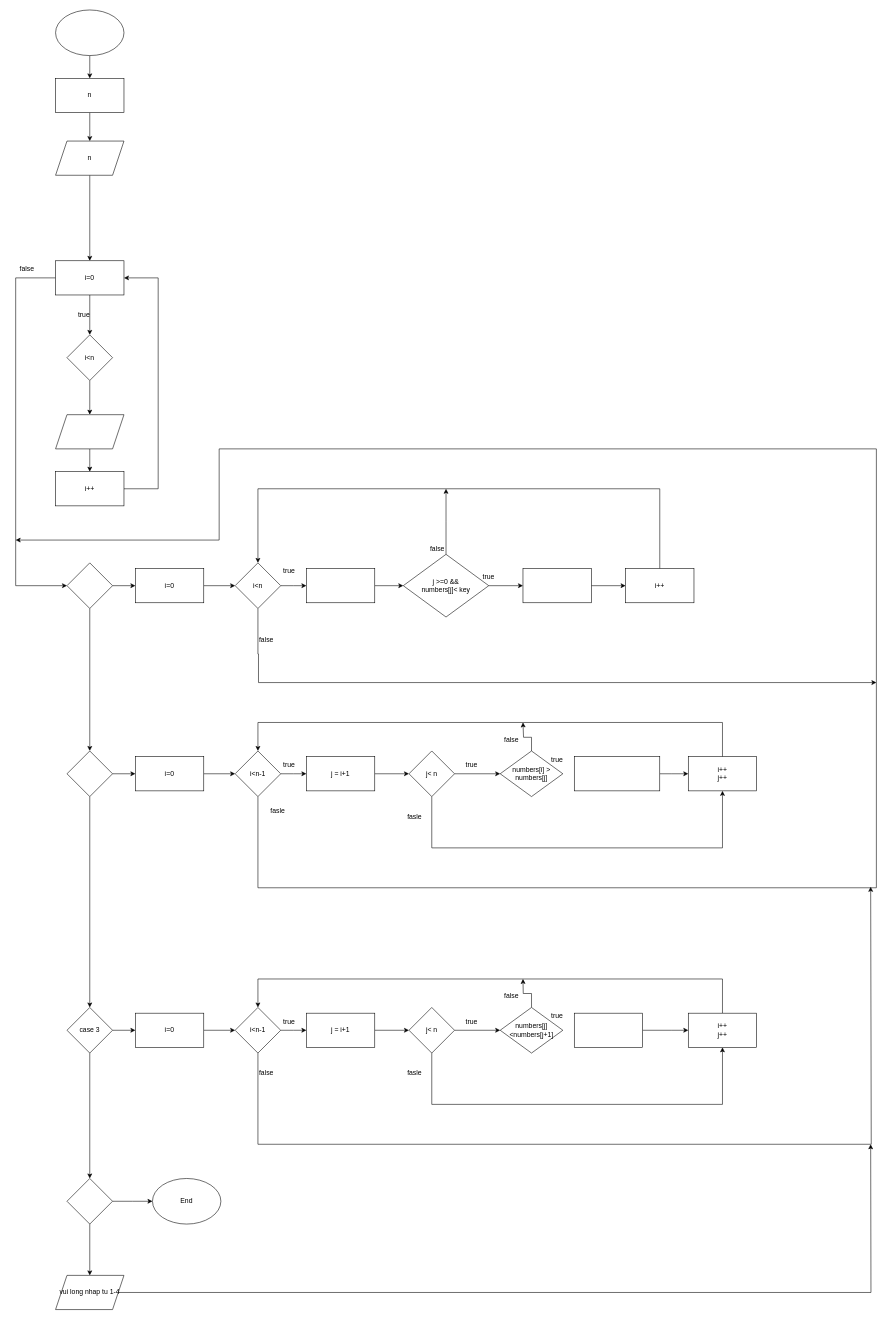
Image size: 891x1320. Some labels were removed from this diagram. Here are the shapes that lost their labels. From the top down, the centre of each, then its label:
the point at 89,32: start
the point at 89,431: numbers[i]
the point at 89,585: case 1
the point at 340,585: j = i-1 key = numbers[i]
the point at 556,585: numbers[j+1] = numbers[j] j =j-1 numbers[j+1] = key
the point at 89,773: case 2
the point at 617,773: temp = numbers[i] numbers[i] = number[j] numbers[j] = temp
the point at 608,1030: temp = numbers[j] numbbers[i] = numbers[j+1] numbers[j+1] = temp
the point at 89,1201: case 4
